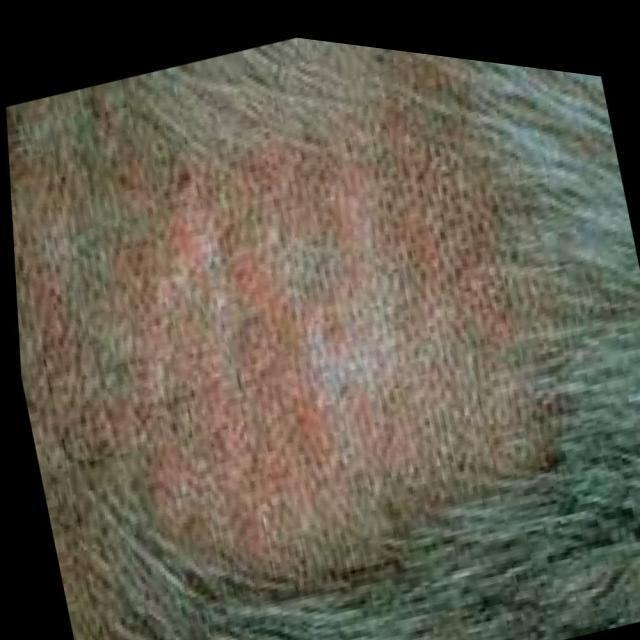allergic dermatitis: (62, 106, 558, 575)
